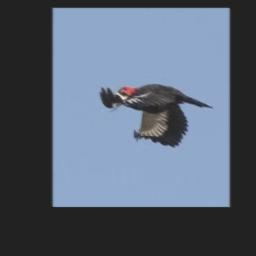Woodpecker: (100, 83, 214, 148)
